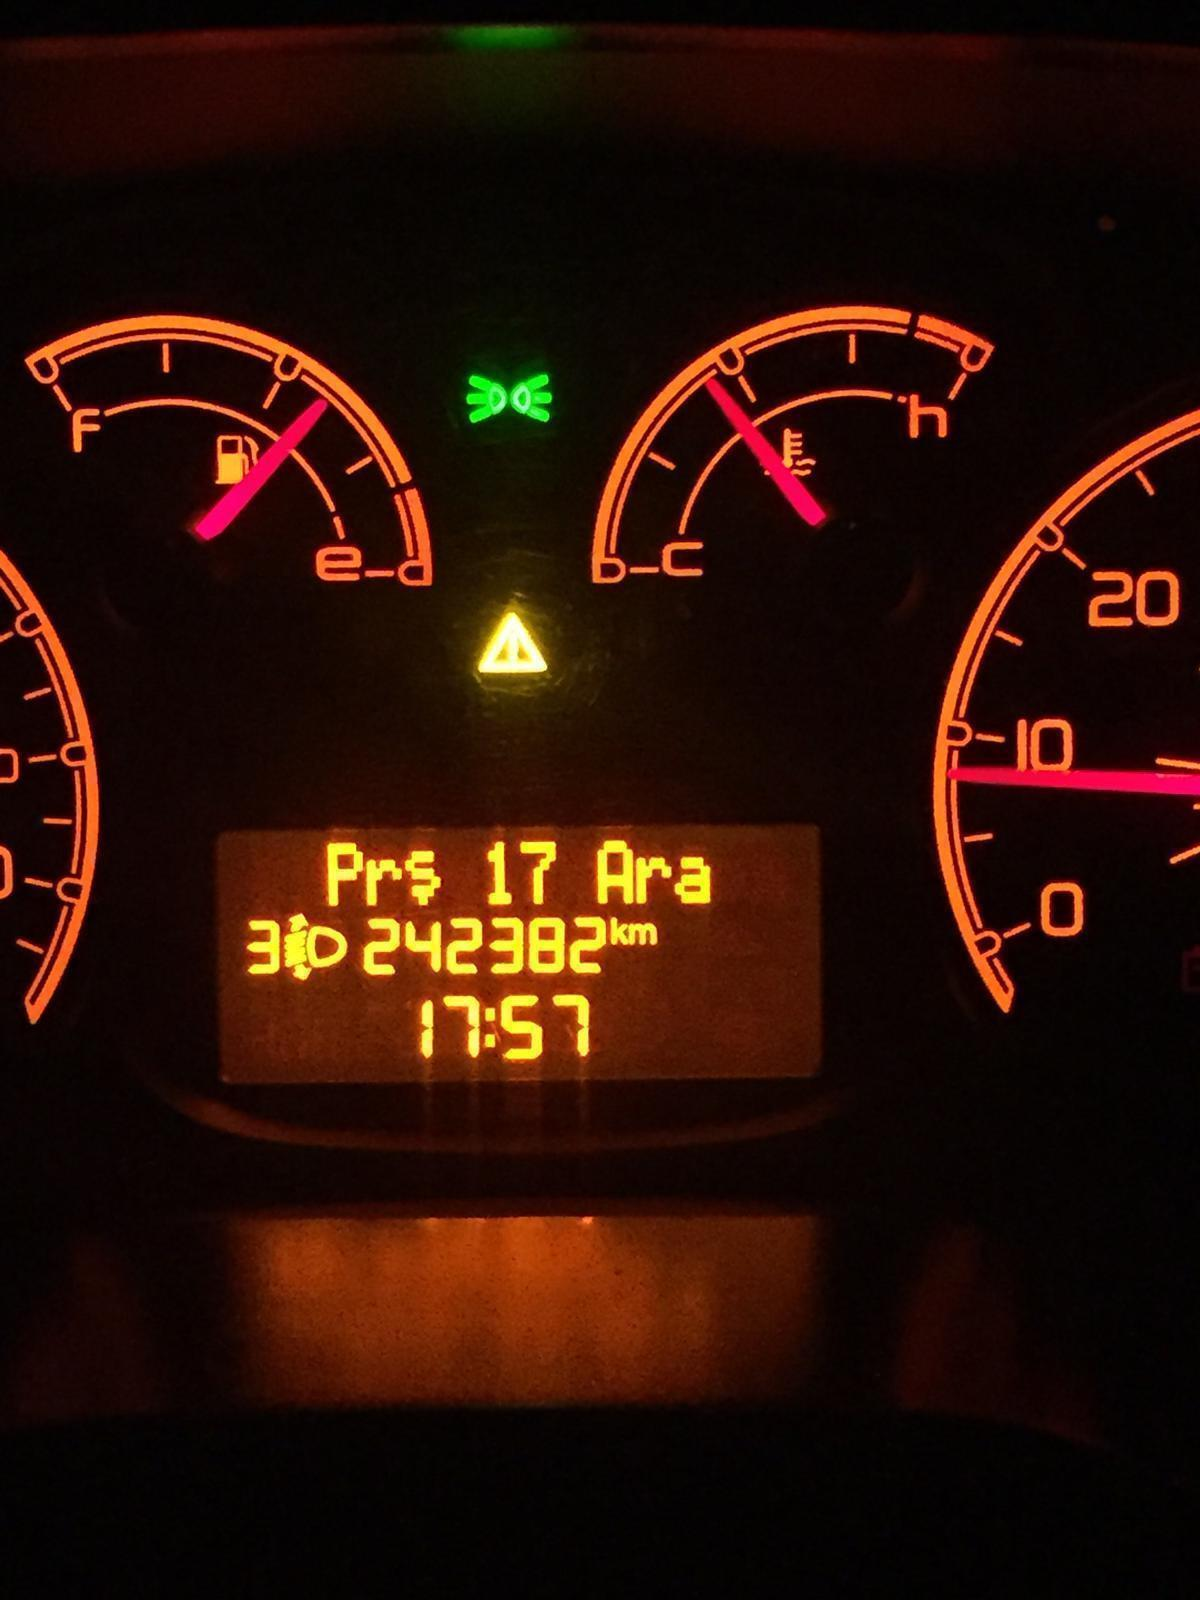1: (487, 837, 514, 906), (416, 994, 439, 1063)
2: (568, 913, 608, 976), (363, 915, 400, 979), (446, 913, 483, 976)
3: (489, 912, 526, 976), (246, 916, 280, 979)
4: (405, 916, 442, 974)
5: (500, 993, 546, 1060)
7: (551, 991, 592, 1062), (521, 838, 560, 907), (442, 993, 482, 1061)
8: (528, 913, 567, 976)
X: (595, 840, 635, 905), (326, 840, 361, 910), (634, 850, 673, 907), (405, 847, 441, 906), (364, 854, 400, 907), (674, 854, 711, 905), (628, 921, 659, 950), (483, 1004, 498, 1051), (610, 913, 628, 947)
odometer: (198, 800, 838, 1094)
